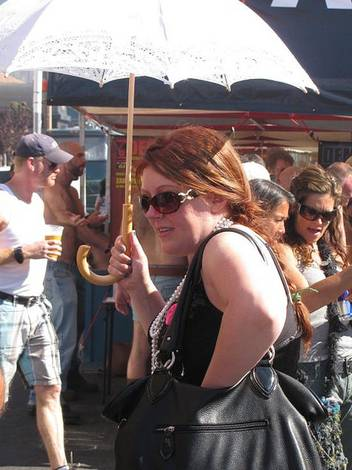Person: (98, 127, 324, 468), (0, 133, 84, 464), (42, 139, 113, 392), (282, 167, 352, 394), (283, 167, 339, 286), (265, 149, 296, 191)
